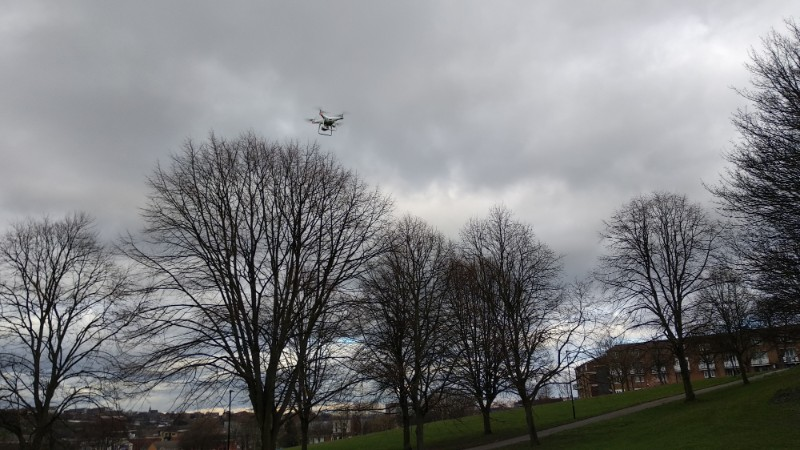drone: (307, 108, 348, 136)
